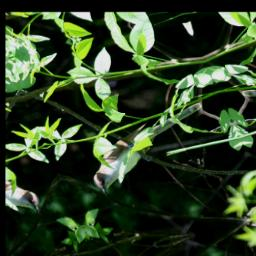Cuckoo: (72, 102, 229, 199)
